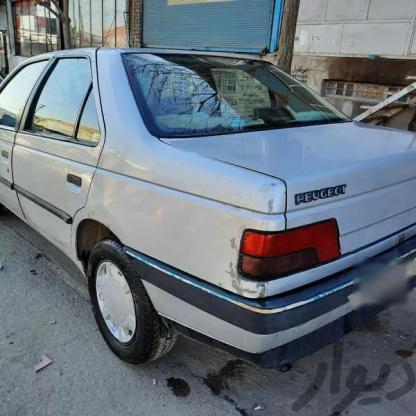Car: (0, 0, 416, 394)
